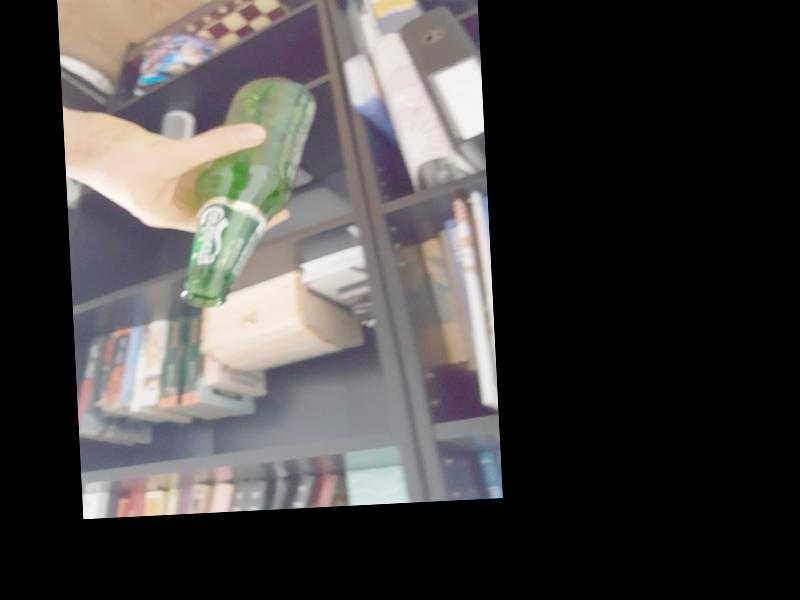Beer: (173, 75, 328, 307)
